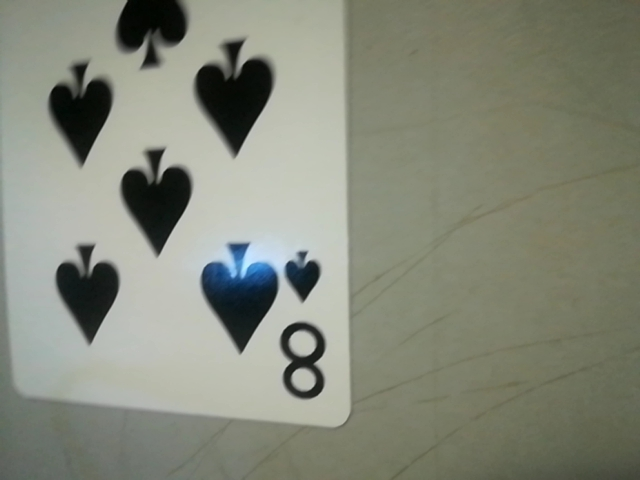ht 8: (270, 241, 343, 421)
